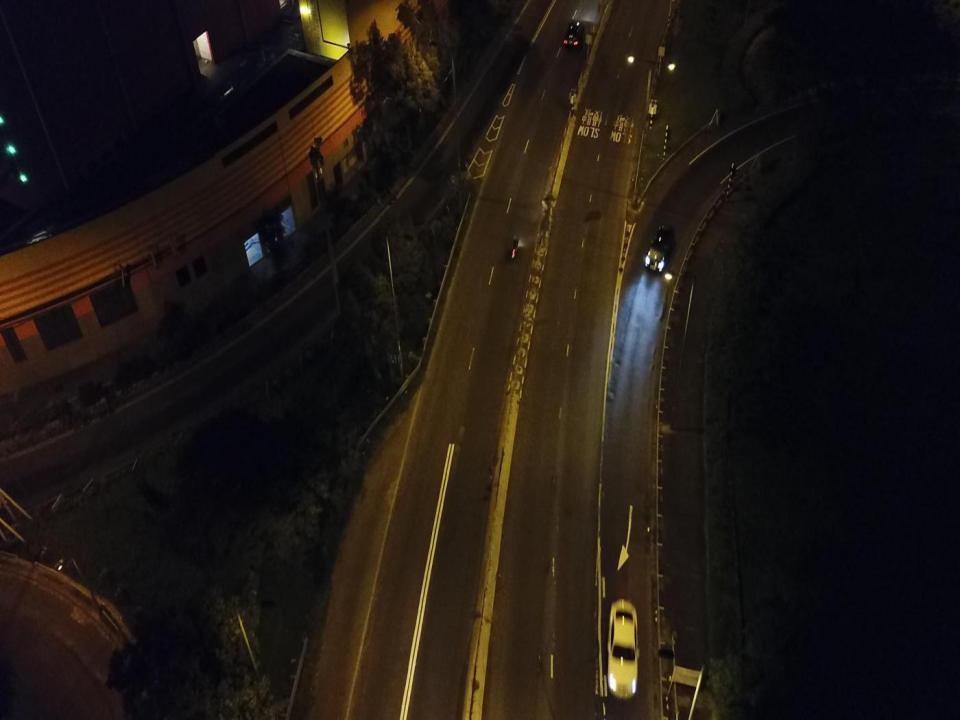car: (606, 599, 641, 698), (644, 220, 674, 273), (562, 18, 586, 51)
